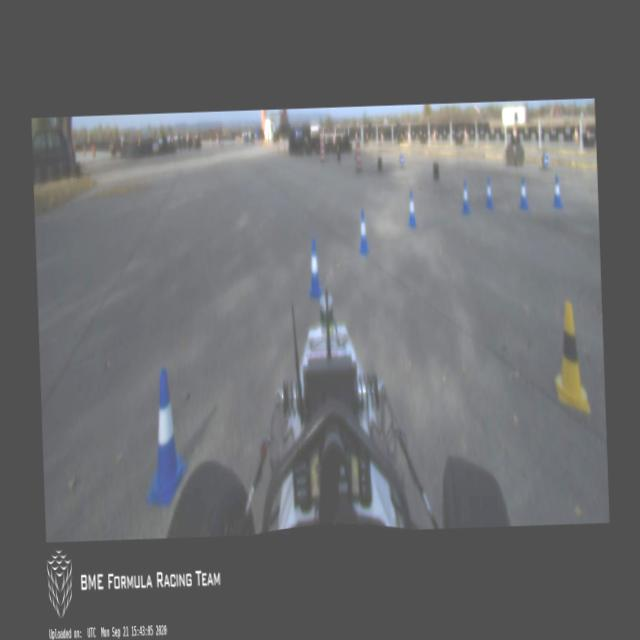blue_cone: (141, 368, 188, 508), (306, 238, 322, 298), (356, 209, 370, 254), (459, 178, 471, 215), (551, 173, 562, 207), (406, 191, 416, 228), (517, 177, 528, 210), (483, 177, 493, 208)
yellow_cone: (550, 303, 589, 412)
